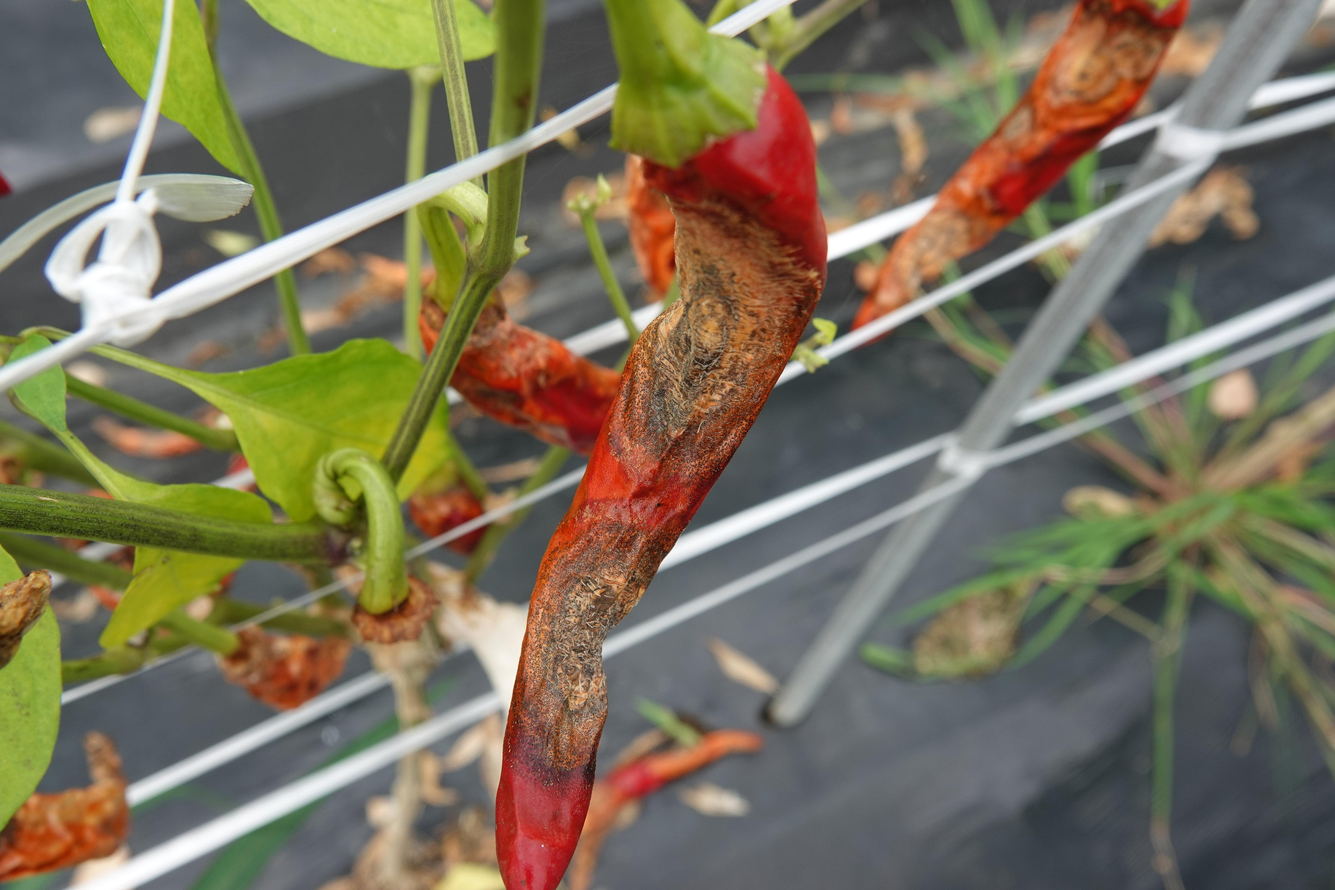Busuk Buah Antraknosa: (490, 46, 830, 885), (844, 0, 1205, 345)
